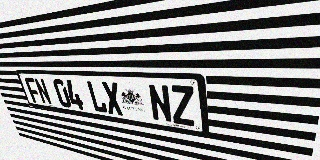0: (52, 79, 72, 108)
4: (63, 79, 85, 110)
F: (24, 77, 43, 104)
L: (86, 81, 108, 113)
N: (147, 84, 173, 123), (33, 78, 53, 105)
X: (101, 81, 124, 116)
Z: (169, 85, 196, 127)
